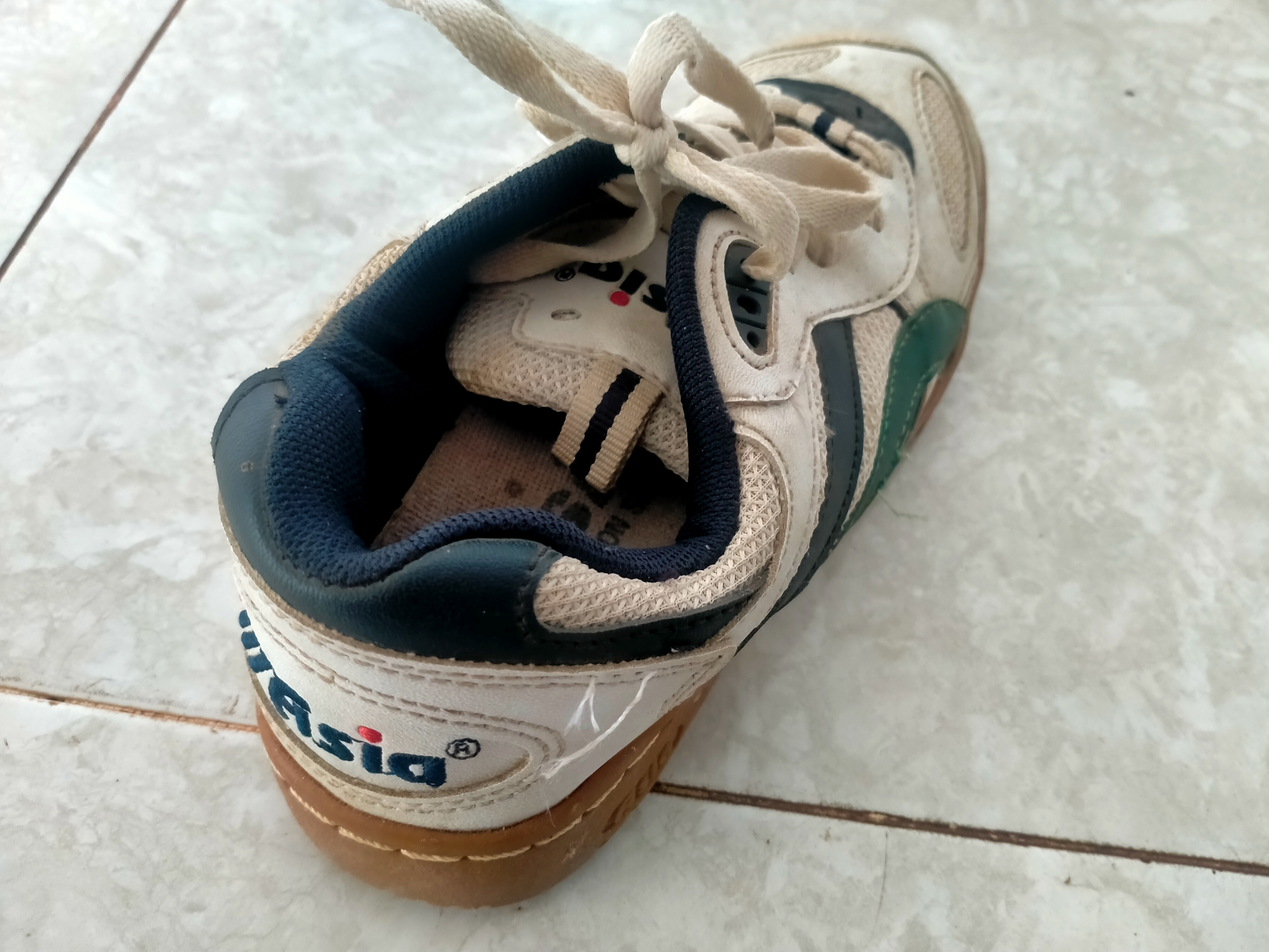broken: (582, 663, 663, 695)
